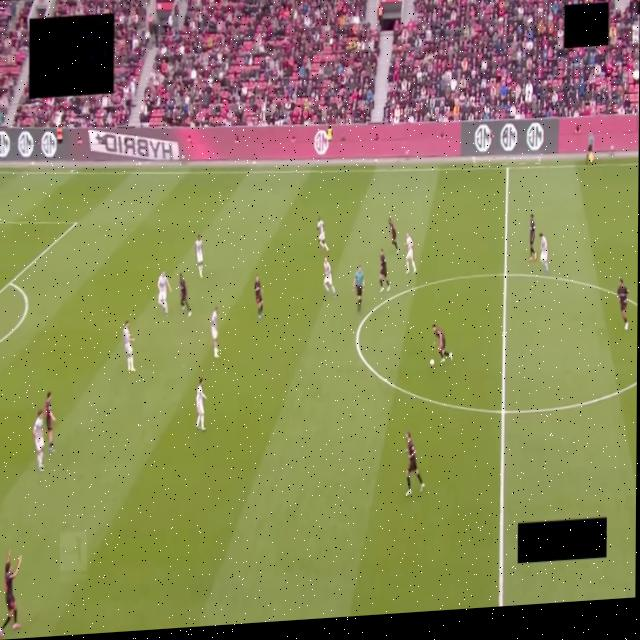ball: (429, 360, 434, 366)
player: (0, 551, 20, 637), (405, 432, 423, 496), (432, 324, 452, 362), (123, 320, 136, 373), (44, 392, 55, 452), (33, 410, 43, 471), (157, 271, 170, 316), (617, 278, 628, 331), (196, 378, 206, 431), (179, 274, 191, 316), (323, 257, 335, 296), (379, 248, 389, 292), (405, 232, 415, 274), (210, 306, 218, 358), (316, 217, 328, 250), (254, 275, 262, 318), (194, 235, 202, 278), (388, 218, 398, 252), (529, 214, 536, 261), (539, 234, 547, 275)
referee: (353, 266, 364, 311)
